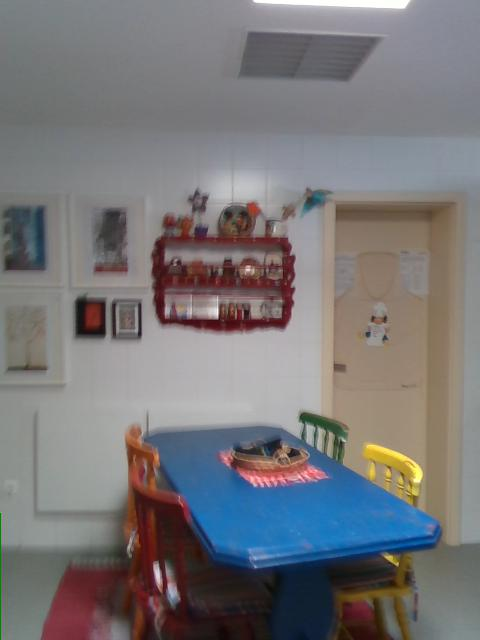closed_door: (318, 195, 465, 555)
